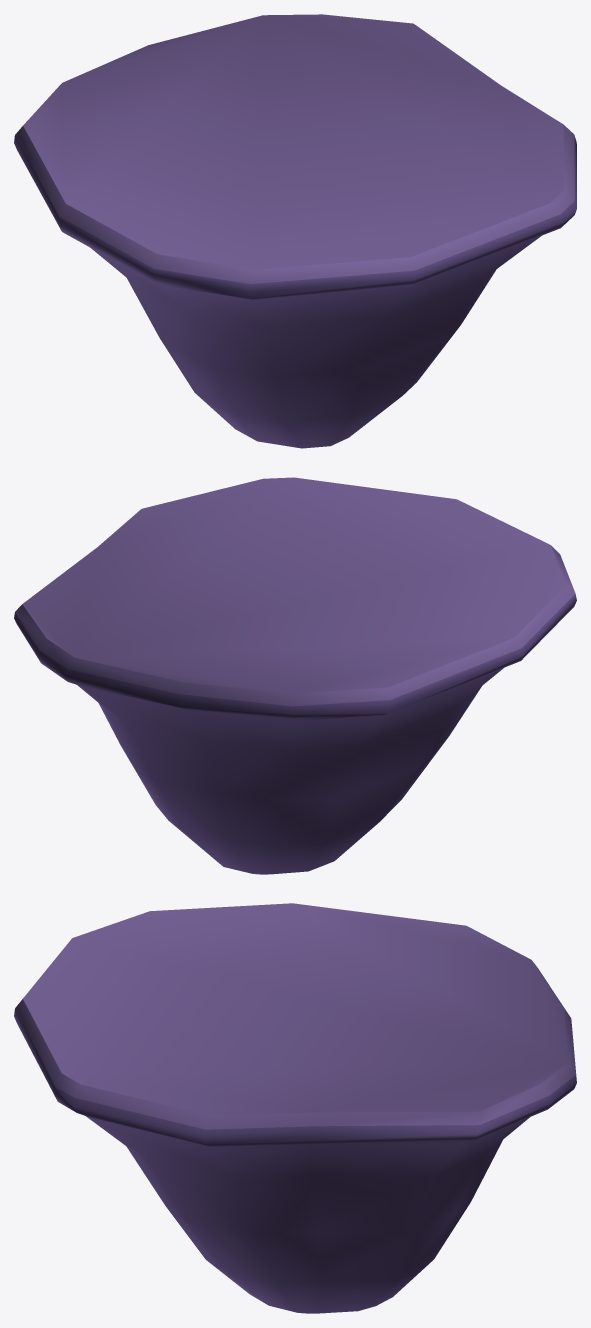
Rendered from island_base.glb.
3 renders of one model, top to bottom at view 1: azimuth 30°, elevation 25°; view 2: azimuth 150°, elevation 25°; view 3: azimuth 270°, elevation 25°, orthographic. The views are drawn at different scales.
Visible parts, largest first — view 1: island_floor; view 2: island_floor; view 3: island_floor.
Boxes of the visible parts, bbox=[...] form: island_floor: bbox=[14, 14, 576, 448]; island_floor: bbox=[14, 477, 576, 874]; island_floor: bbox=[14, 903, 576, 1313].
Bounding box in the file's own units: 2.3 × 1.37 × 2.47.
